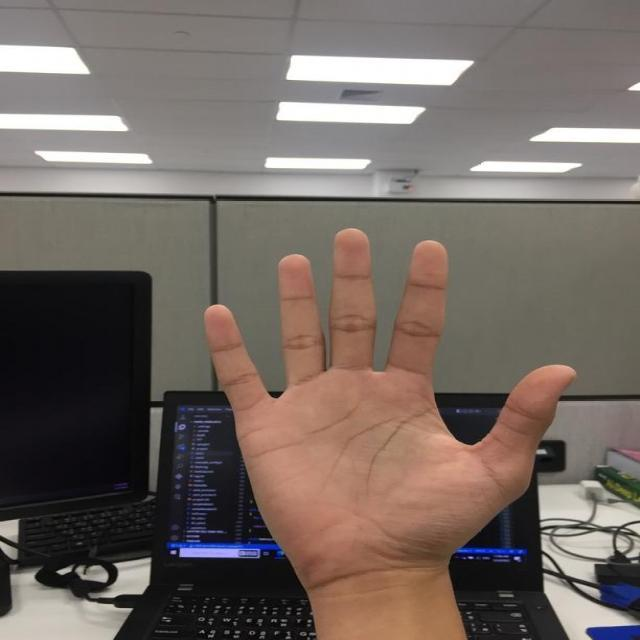no-gloves: (196, 225, 578, 574)
